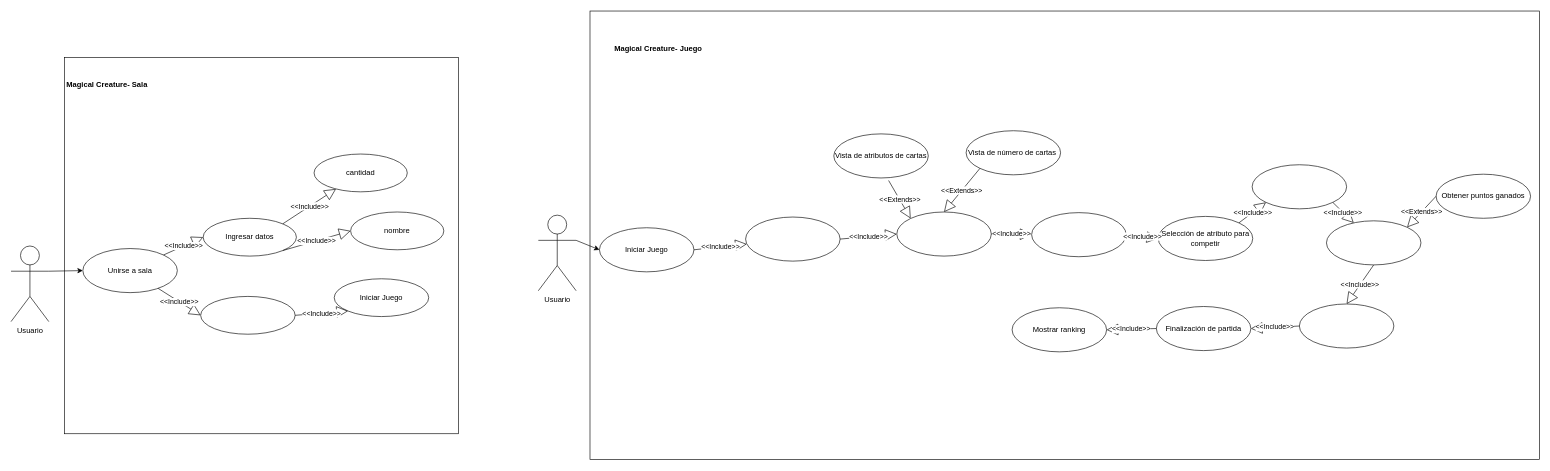
The diagram is 1550 pixels wide and 471 high, and some of its shapes have lost their labels. The shapes that lost their labels are listed below. From the top down, each one's box as (x1, y1, x2, y2) in pixels, then its label:
(1251, 164, 1347, 209): Comparación de atributos
(745, 216, 840, 261): Repartición aleatoria de cartas
(896, 211, 991, 256): Vista de cartas seleccionadas
(1031, 212, 1126, 257): Indicación de turno aleatorio
(1326, 220, 1421, 265): Asignación de puntos al ganador
(200, 296, 295, 334): Validar datos
(1299, 303, 1394, 348): Inicio de la siguiente ronda
